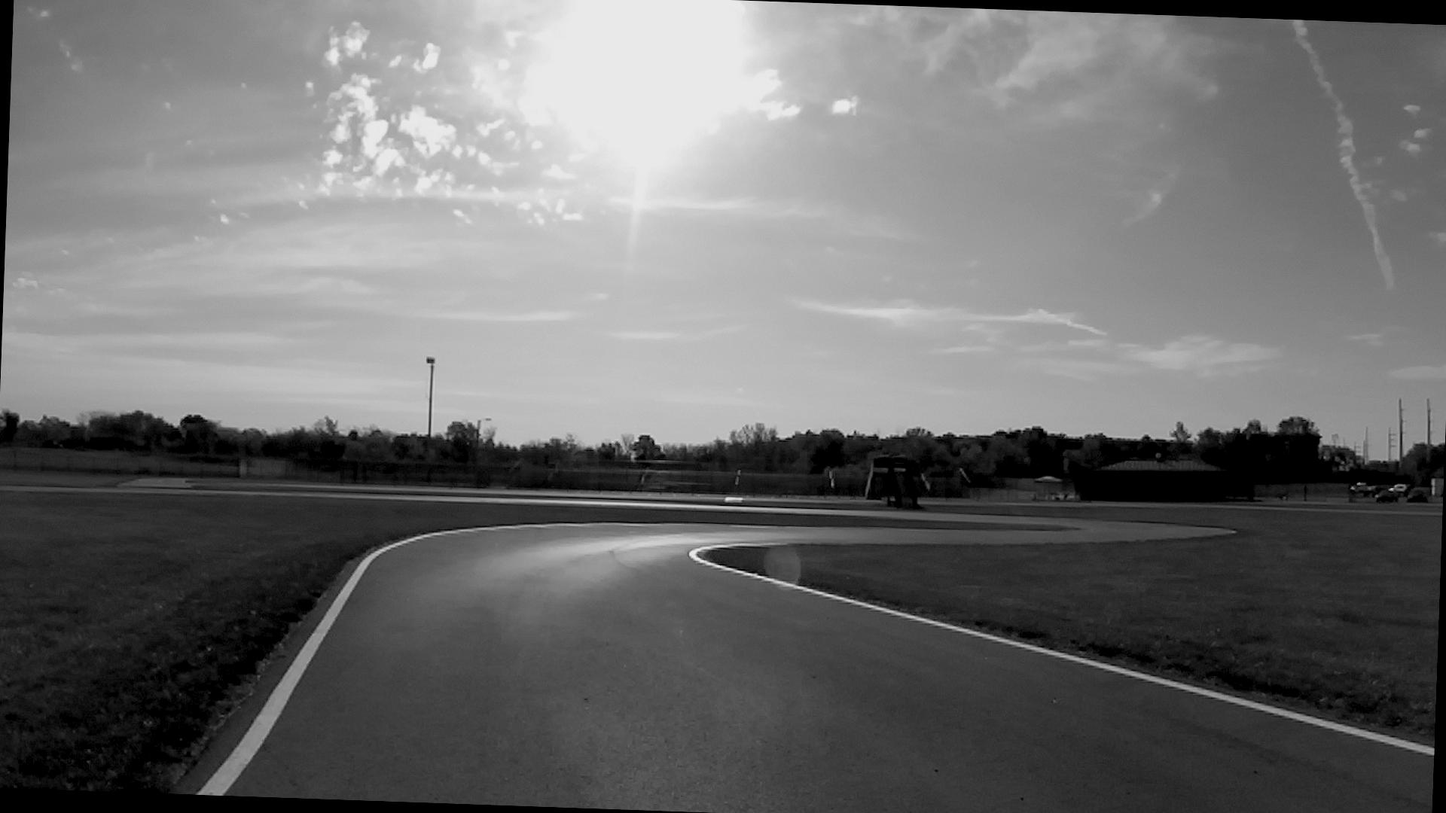white-line: (690, 542, 1435, 757), (197, 523, 656, 796)
